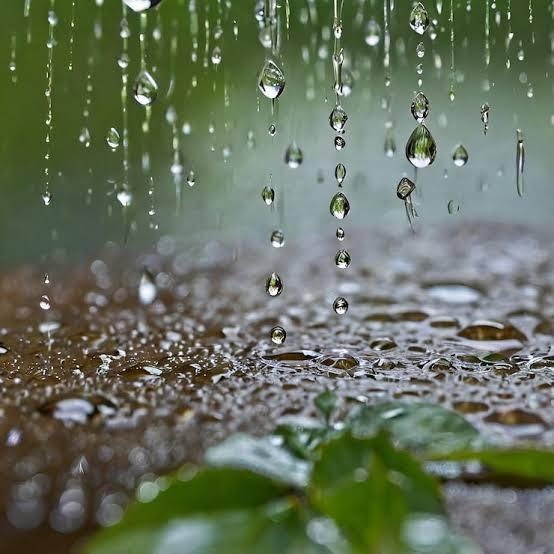water drop: (402, 126, 442, 166), (256, 63, 290, 99), (136, 74, 164, 105), (408, 93, 435, 121), (408, 4, 433, 34), (262, 269, 286, 296), (284, 140, 306, 168), (330, 105, 351, 134), (450, 142, 472, 164), (331, 195, 349, 218), (332, 164, 350, 186), (260, 186, 278, 206), (270, 228, 288, 247), (105, 128, 122, 148), (336, 248, 352, 269), (332, 298, 350, 313), (272, 324, 286, 342)
